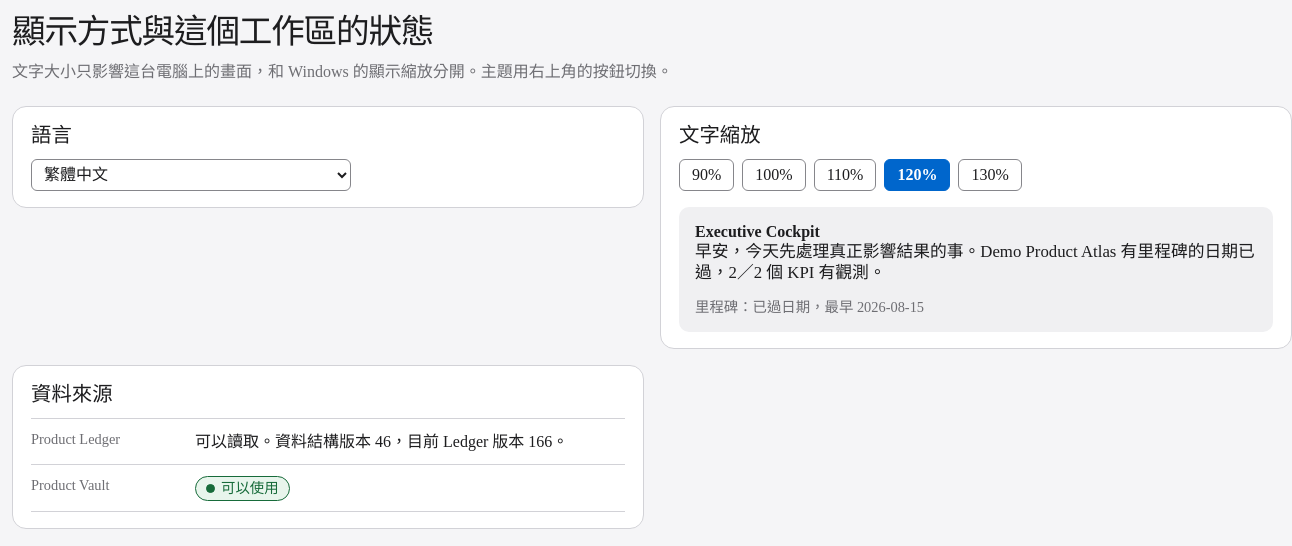
Test: Settings › keeps the language it had when the new one could not be stored, and says so
The width and height of the screenshot is (1292, 546).
Select "日本語" in the dropdown labelled "語言" at (191, 175), box [31, 159, 351, 191]
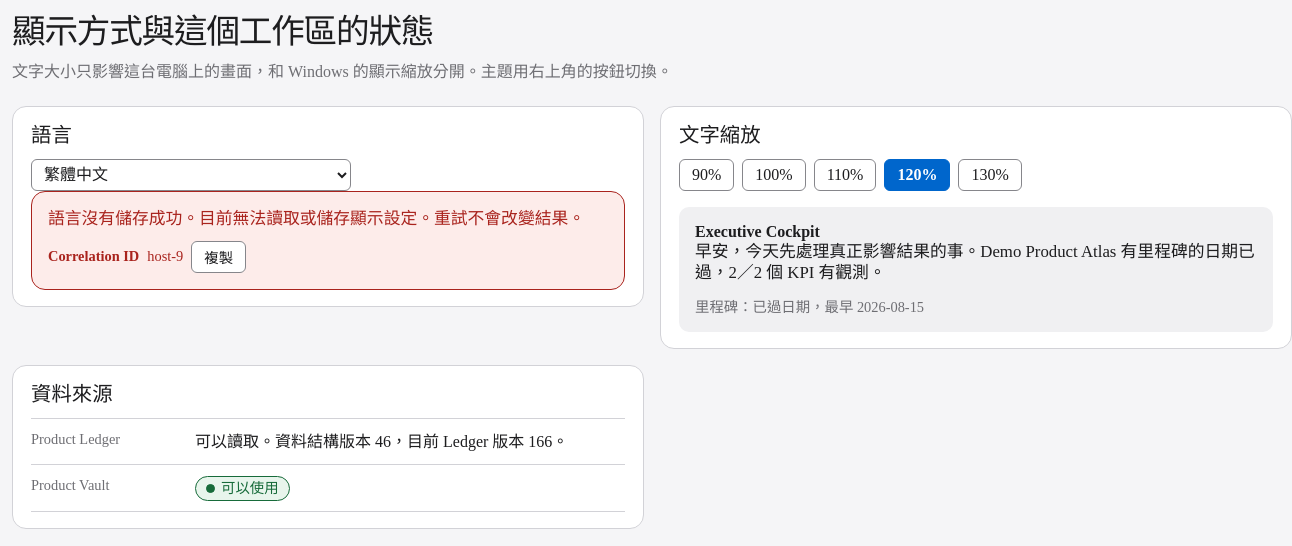
Expected: the text "語言沒有儲存成功。目前無法讀取或儲存顯示設定。重試不會改變結果。" is shown, [48, 209, 585, 228]
